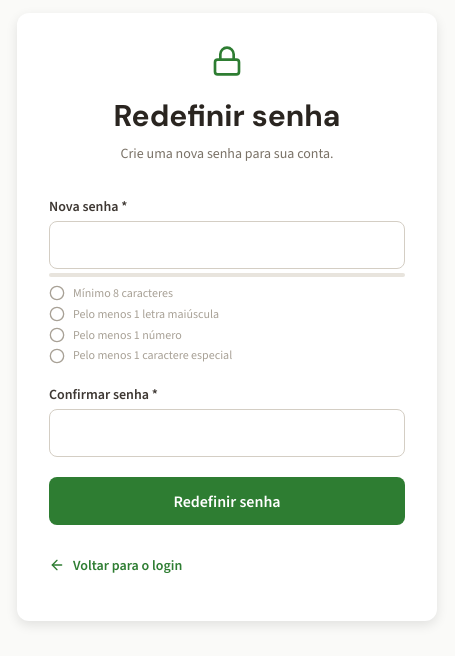
Scenario: ResetPasswordPage › submits and shows success state
The image size is (455, 656).
Type "StrongPass1!" into the password field labelled "Nova senha *" at (227,245), box [49,221,405,269]
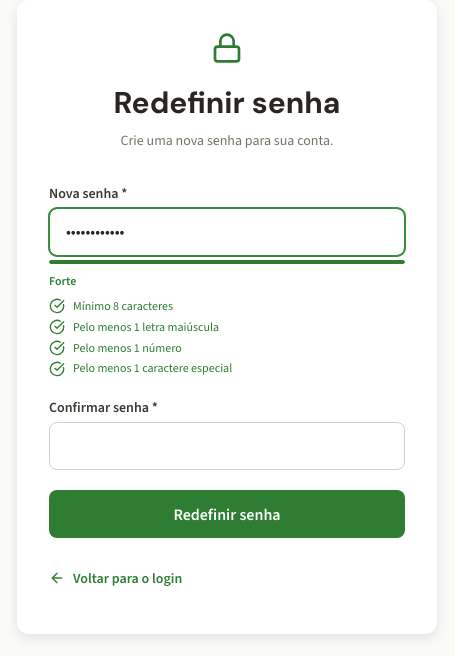
Type "StrongPass1!" into the password field labelled "Confirmar senha *" at (227,446), box [49,422,405,470]
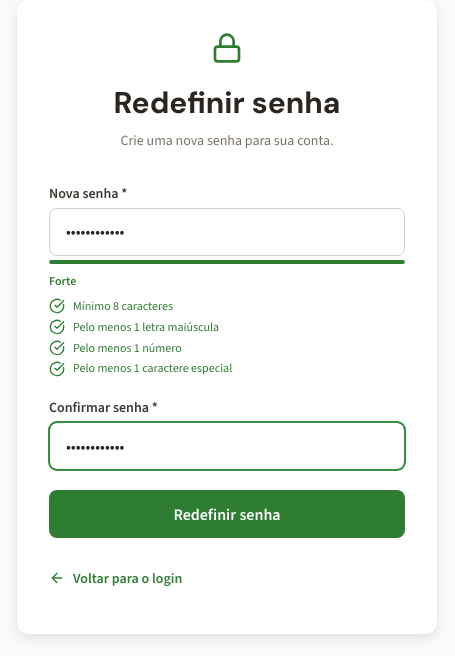
Click the button "Redefinir senha" at (227,514), box [49,490,405,538]
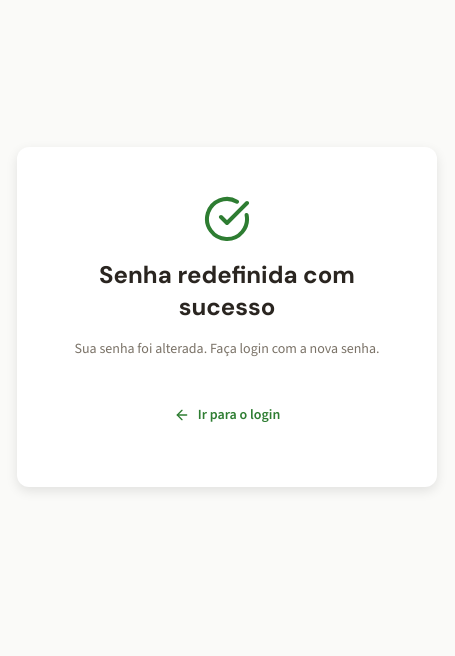
Expected: the heading "Senha redefinida com sucesso" is shown, [99,259,355,322]
